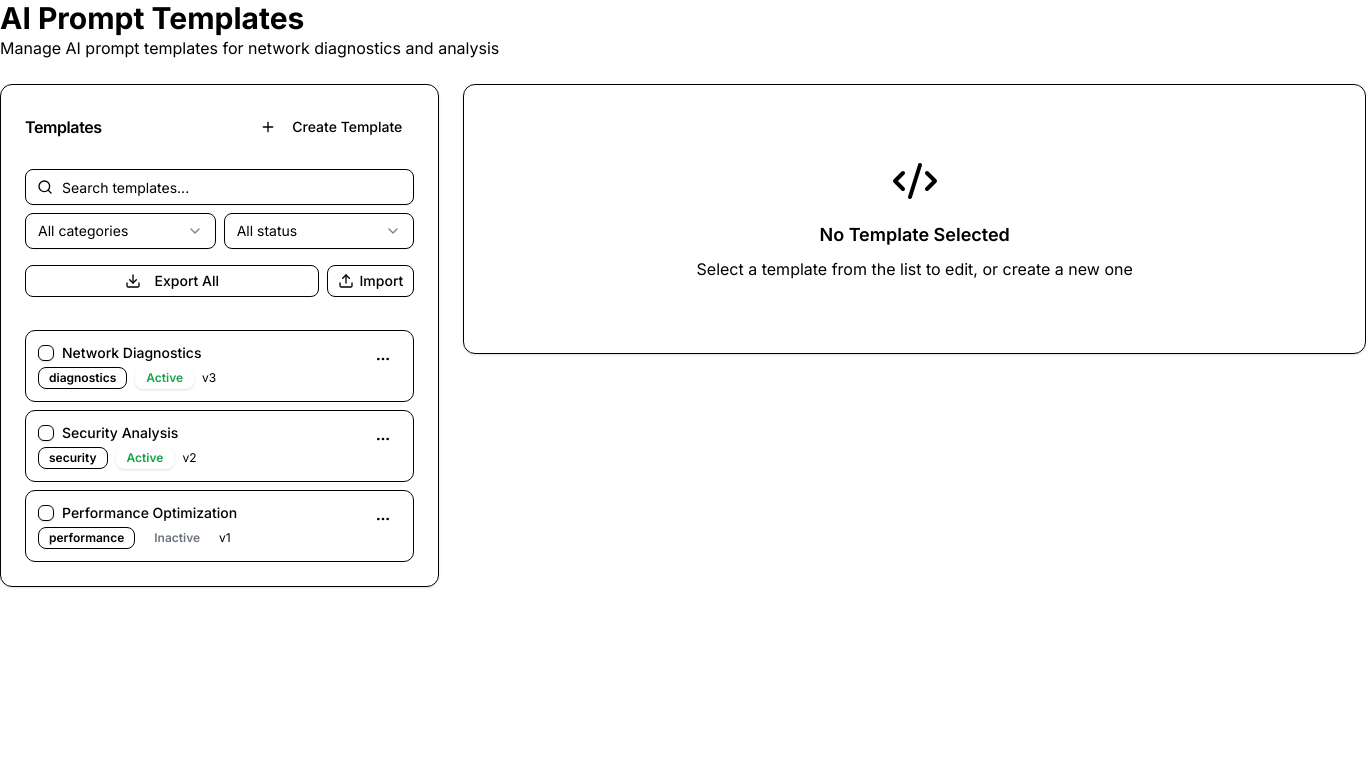
PromptTemplateEditor › Edit Existing Prompt › should show version history
This screenshot has width=1366, height=768.
Click the heading "Network Diagnostics" at (132, 353), box [62,343,201,363]
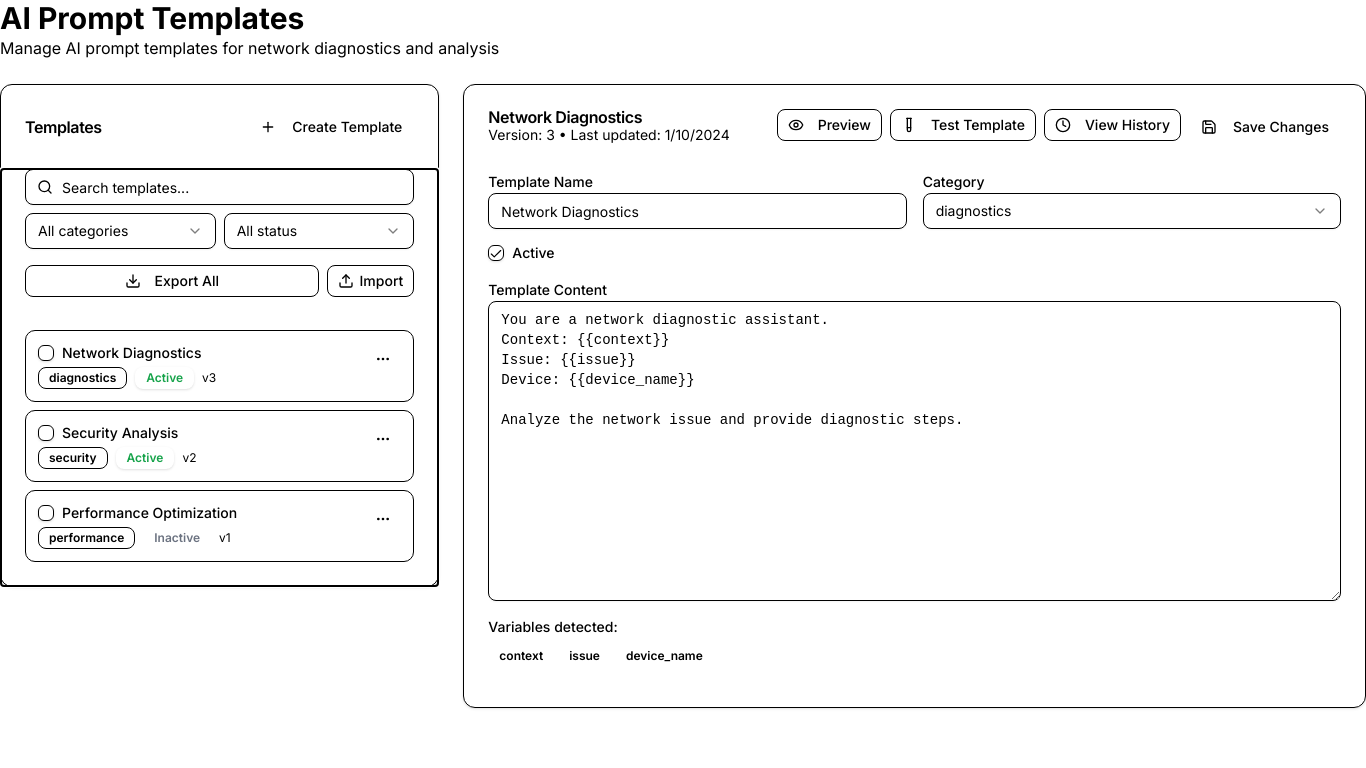
Check: the text "Version: 3" is shown, box [488,126,555,143]
Check: the text "• Last updated: 1/10/2024" is shown, box [555,126,730,143]
Click the button "View History" at (1112, 125), box [1044,109,1181,141]
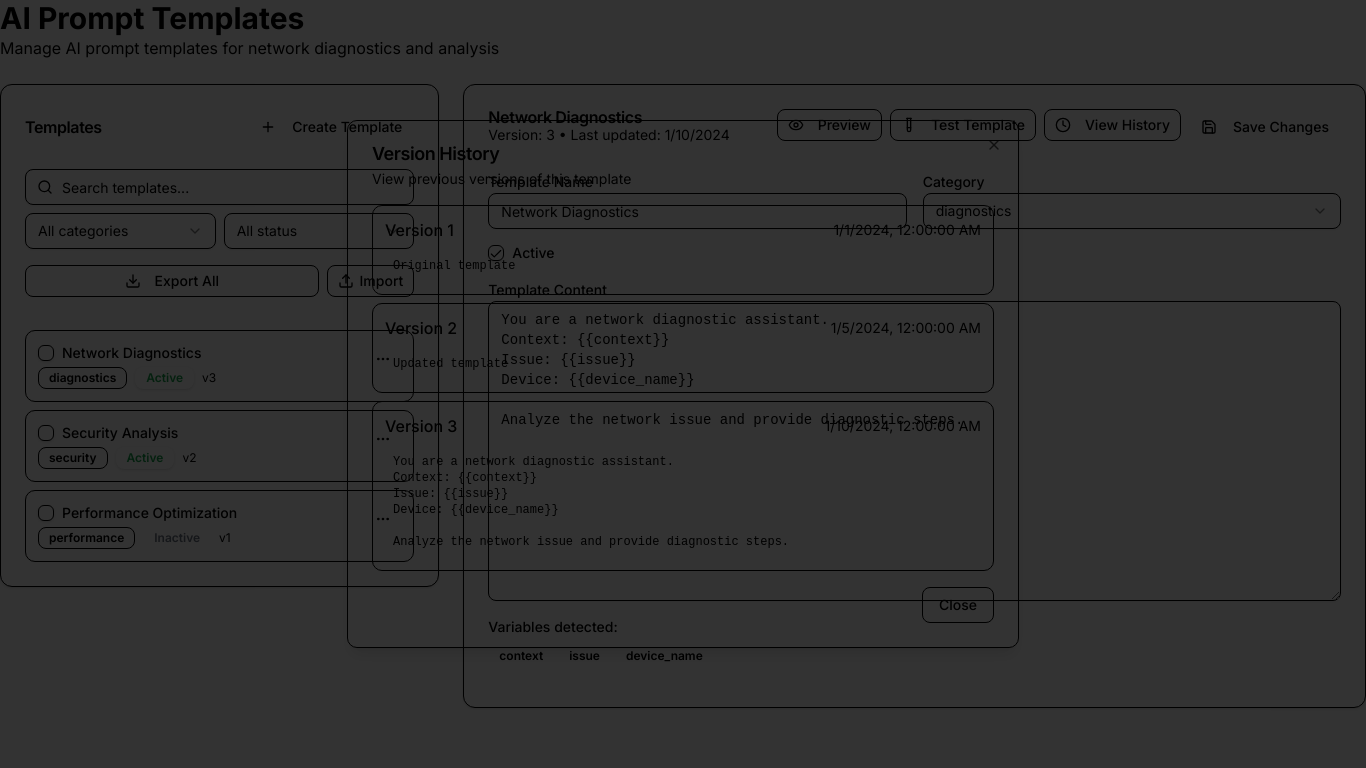
Check: the heading "Version History" is shown, box [372,143,499,164]
